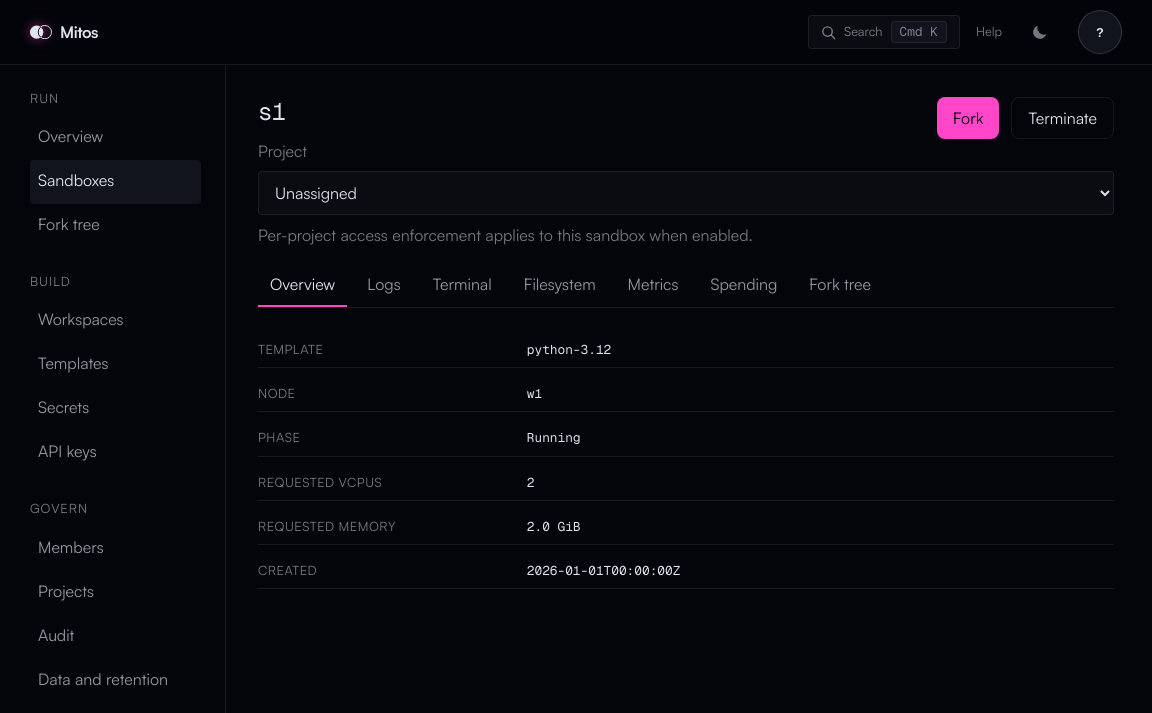
SandboxDetail › header Fork button shows "created K of N" with the error on a partial fork failure (HTTP 207)
The width and height of the screenshot is (1152, 713).
Expected: the heading "s1" is shown, x1=258 y1=100 x2=285 y2=124
What coordinates should you click on to do the following:
click the button "Fork"
I would click on:
 (968, 118)
Its box is x1=937 y1=97 x2=999 y2=139.
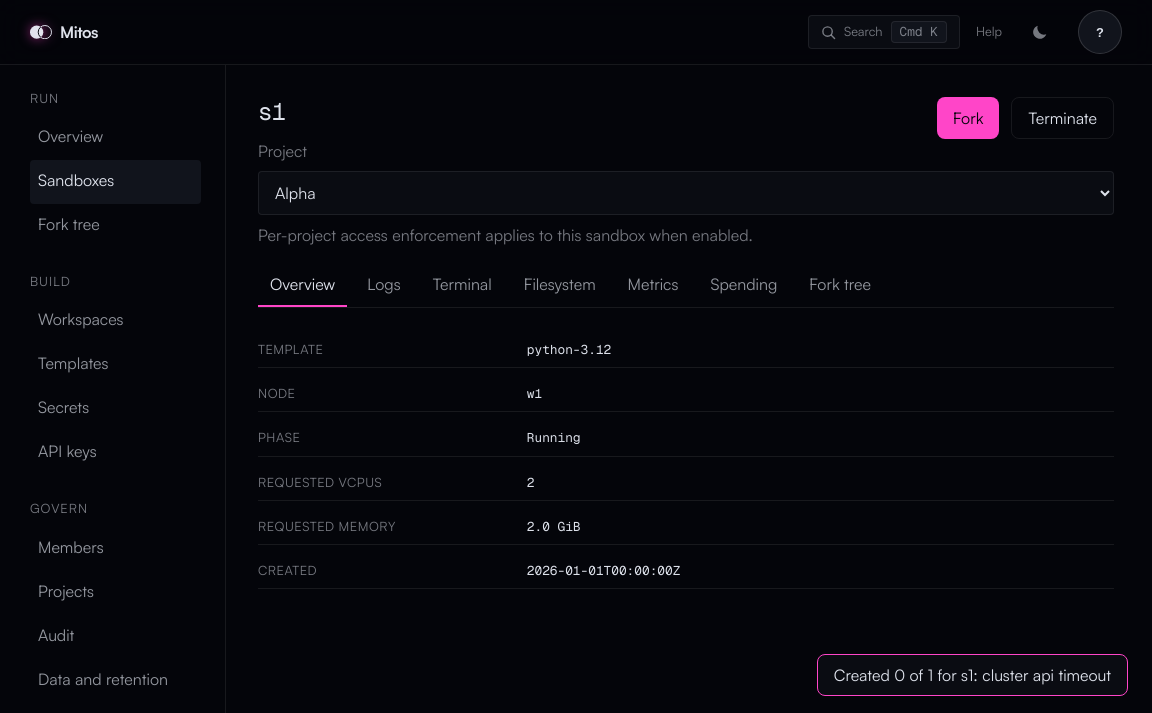
Result: the message reads "Created 0 of 1 for s1: cluster api timeout" at x1=834 y1=665 x2=1111 y2=685
